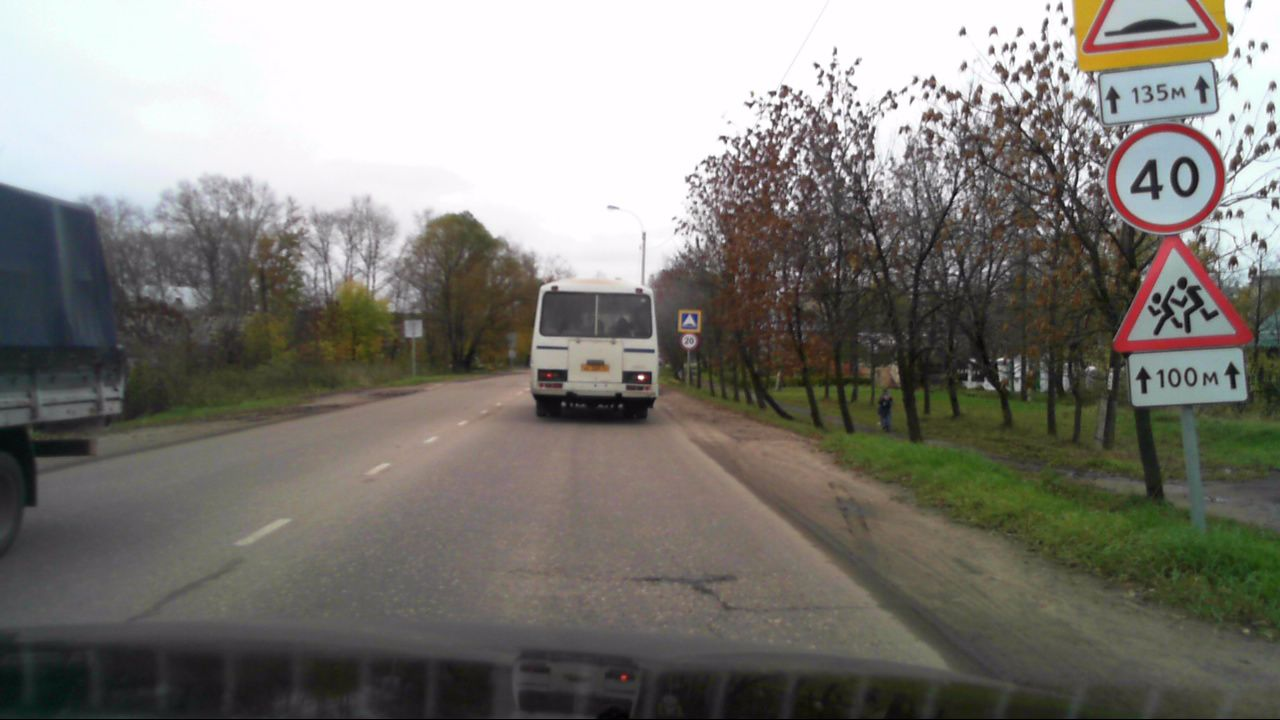speed_warning_40: (1106, 124, 1230, 235)
